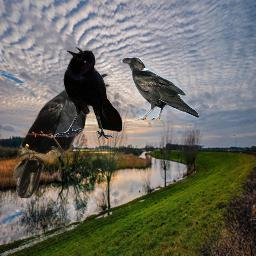Crow: (12, 71, 112, 198), (54, 47, 122, 139), (121, 56, 199, 127)
